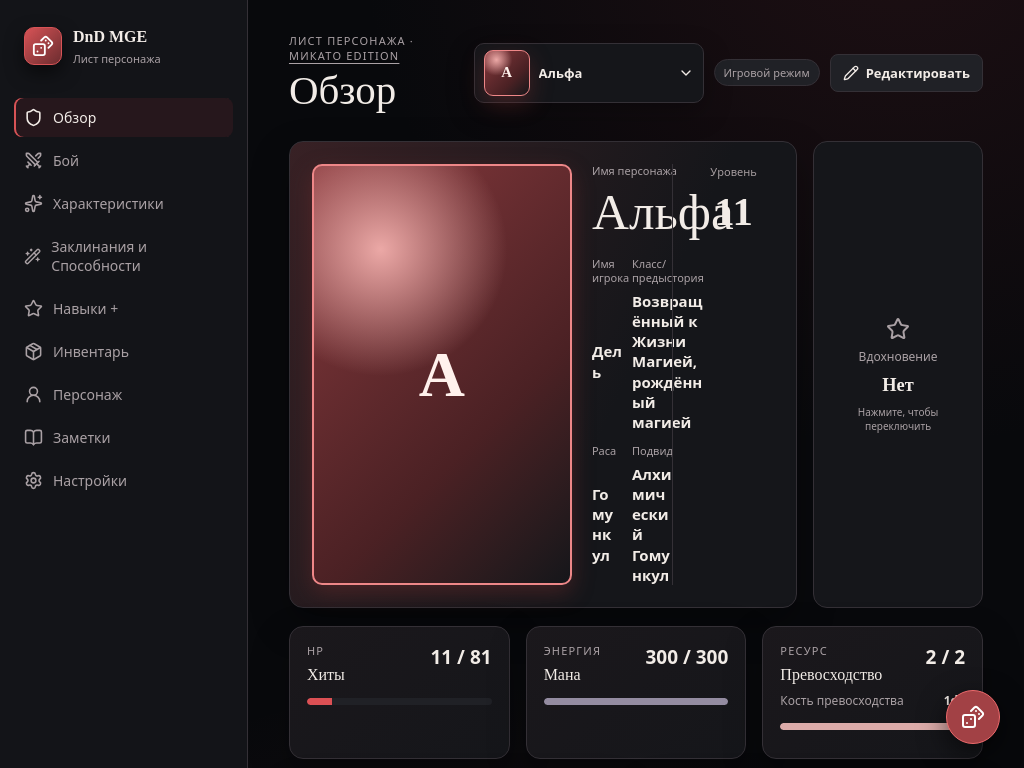
Test: игровые представления листа › переключает три независимых персонажа без смешивания ресурсов и заклинаний
Expected: the text "11 / 81" is shown, [430,644,492,670]
Click the button "А Альфа".
click(589, 73)  # box [474,43,704,103]
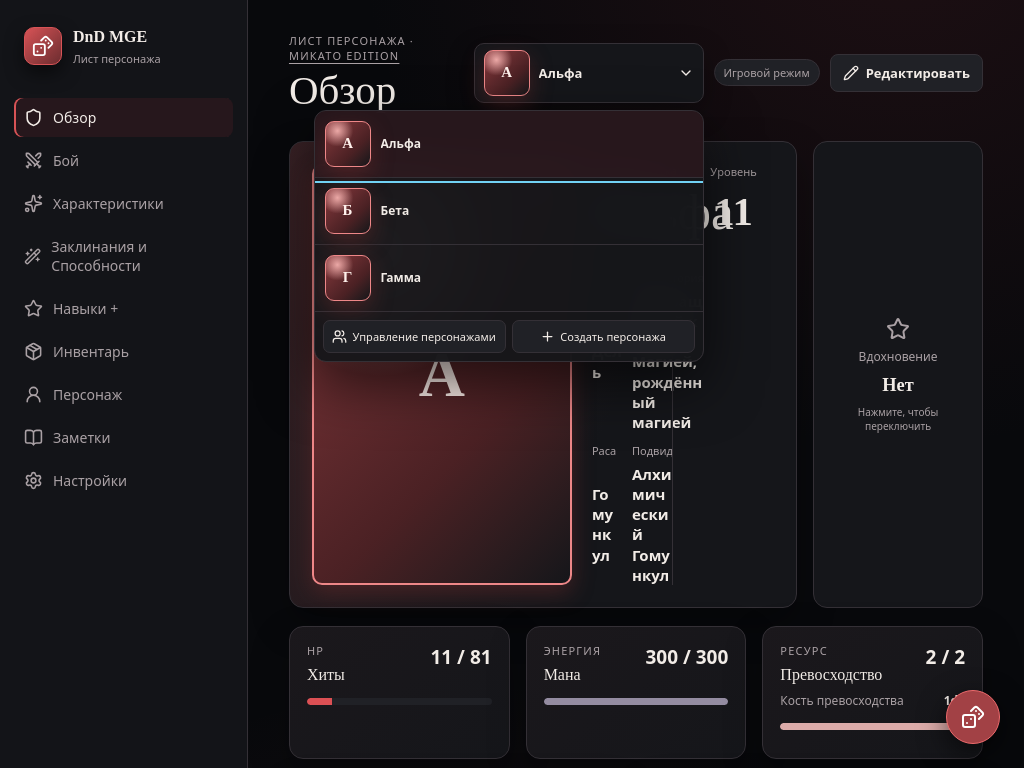
Click the menu item "Б Бета".
click(348, 211)  # box [315,178,703,245]
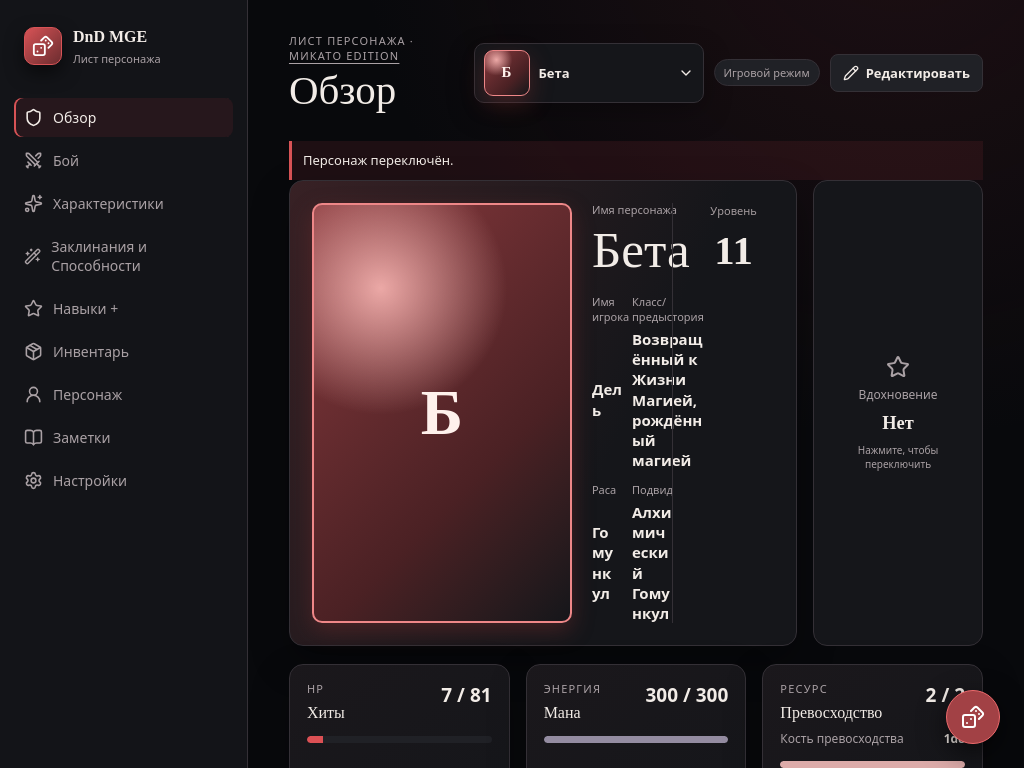
Expected: the text "Бета" is shown, [539,64,570,82]
Click the button "Б Бета".
click(589, 73)  # box [474,43,704,103]
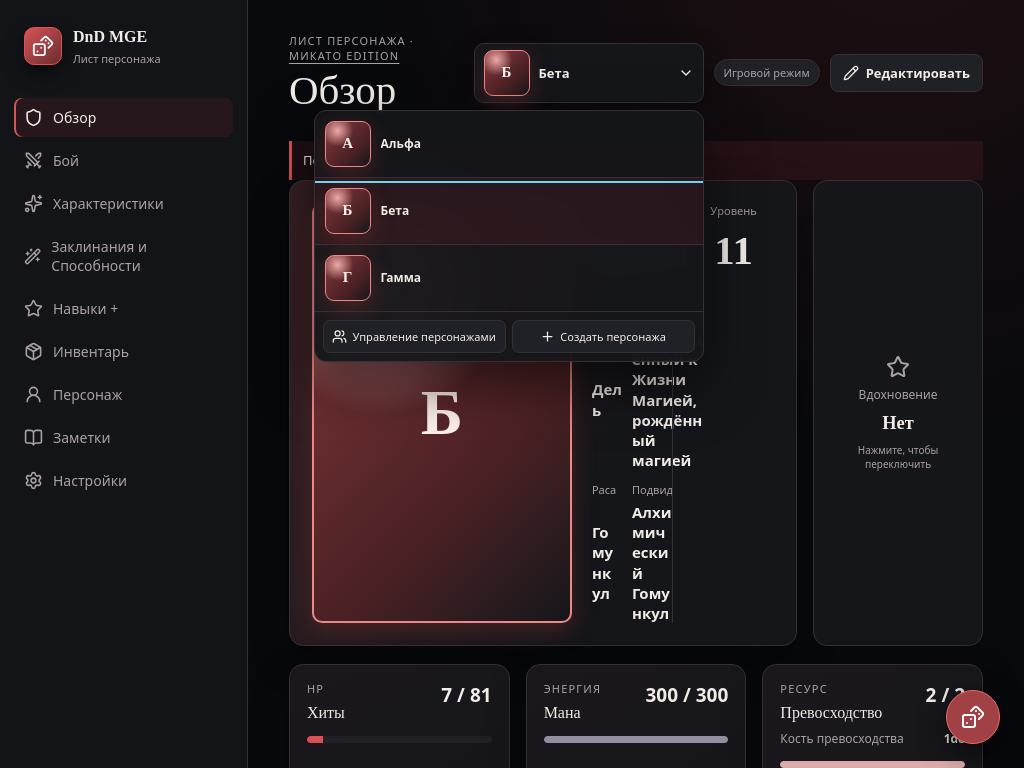
Click the menu item "Г Гамма".
click(348, 278)  # box [315,245,703,312]
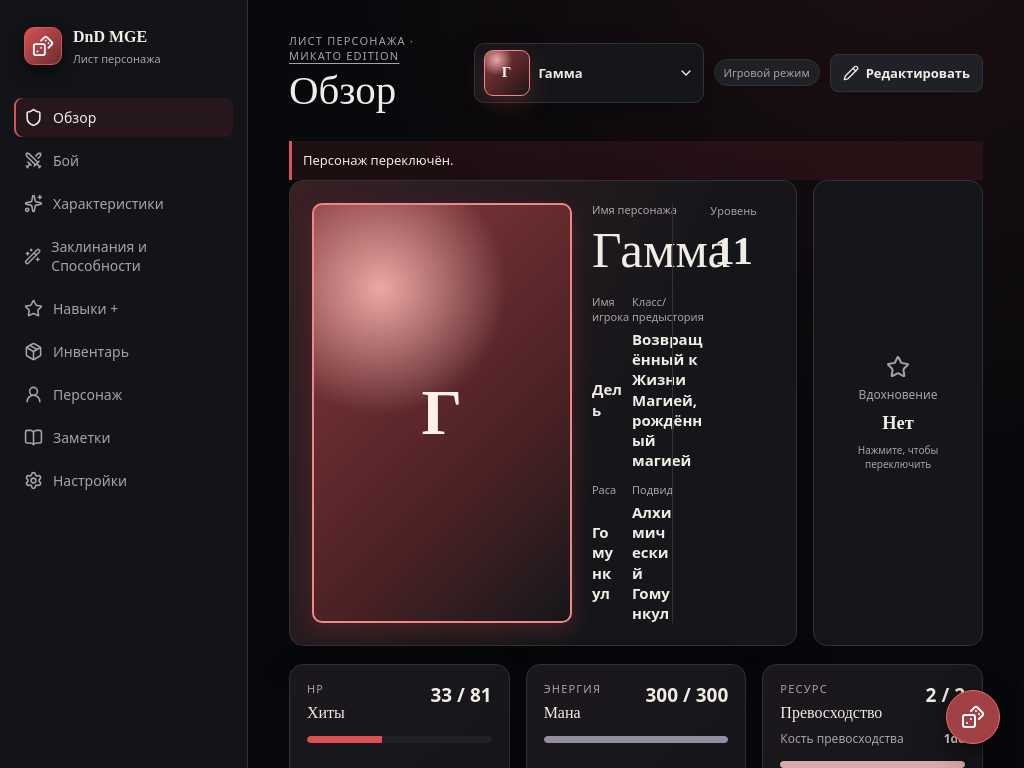
Expected: the text "Гамма" is shown, [539,64,582,82]
Click the button "Г Гамма".
click(589, 73)  # box [474,43,704,103]
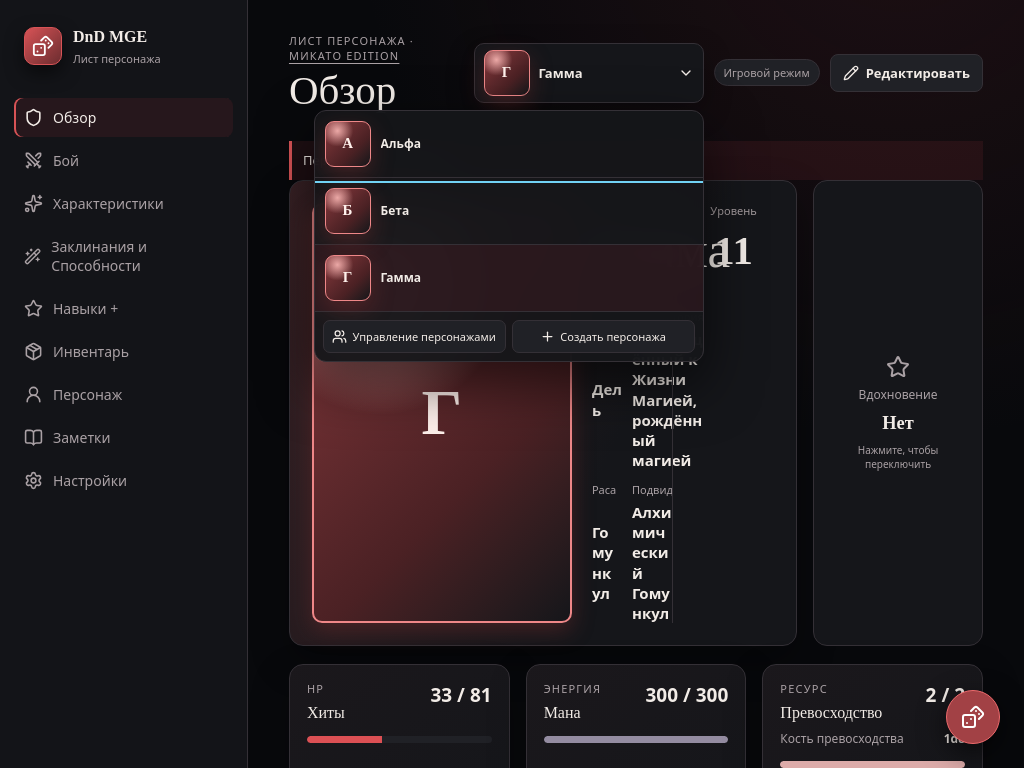
Click the menu item "Б Бета".
click(348, 211)  # box [315,178,703,245]
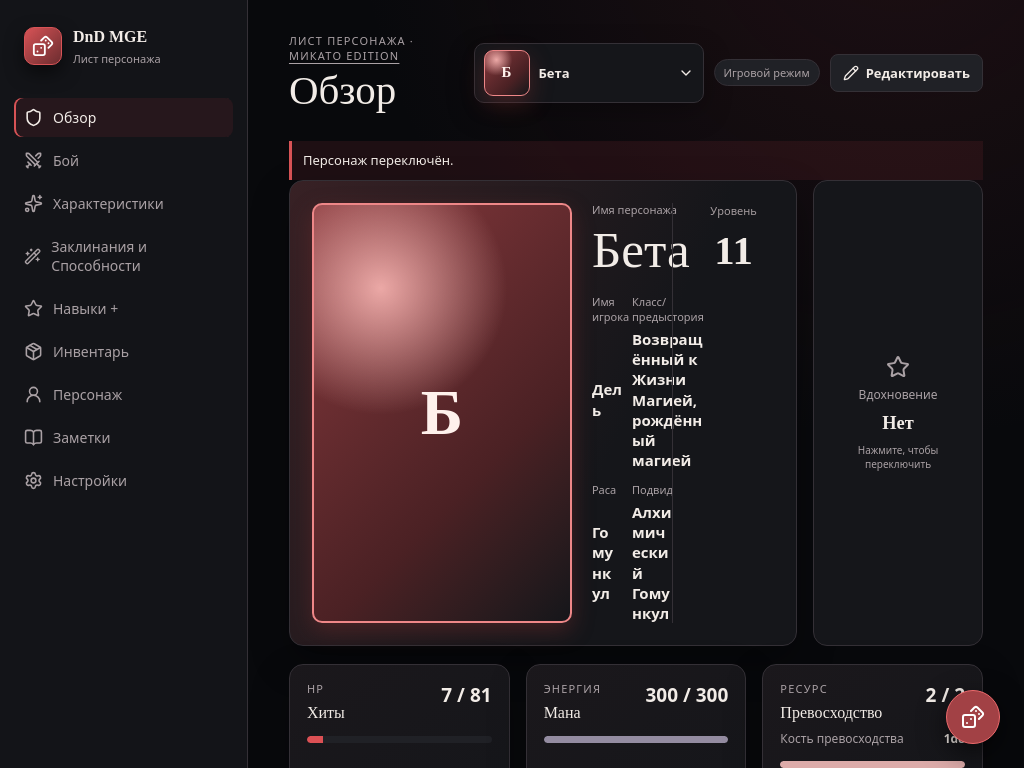
Expected: the text "Бета" is shown, [539,64,570,82]
